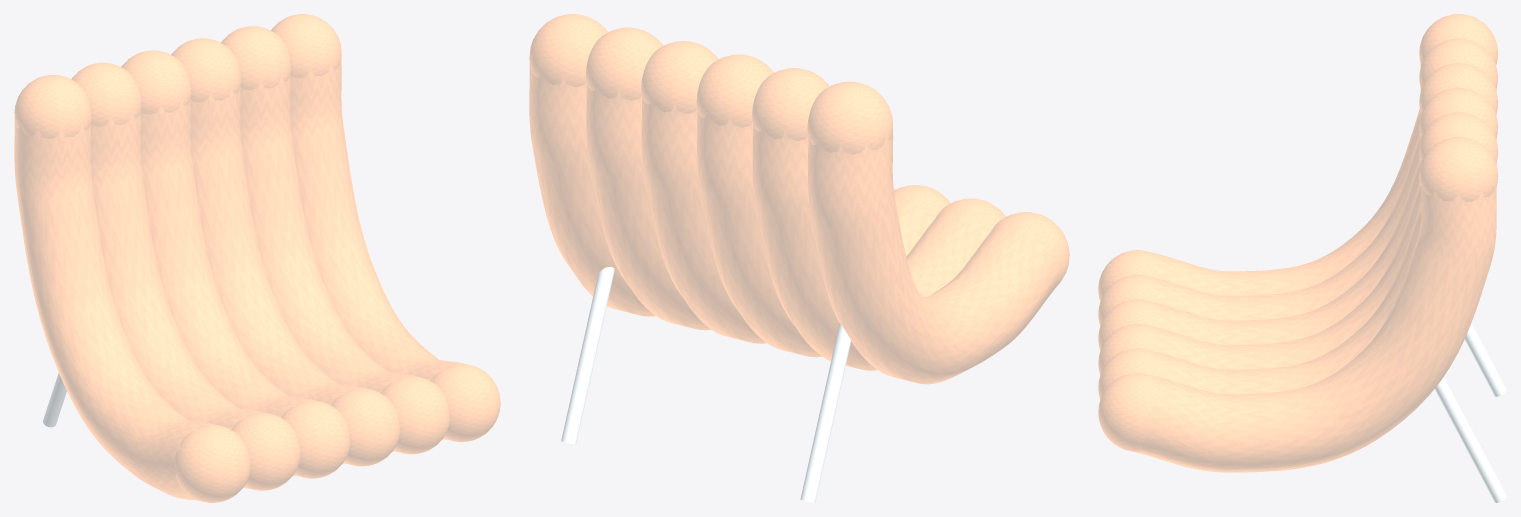
The model's file is ref05_04.glb.
The picture shows the model from 3 angles, left to right: view 1: azimuth 30°, elevation 25°; view 2: azimuth 150°, elevation 25°; view 3: azimuth 270°, elevation 25°; orthographic projection. The views are drawn at different scales.
Visible parts, largest first — view 1: ref05_04; view 2: ref05_04; view 3: ref05_04.
Boxes of the visible parts, x1,y1,x2,y2 form: ref05_04: [14, 14, 500, 502]; ref05_04: [529, 14, 1069, 502]; ref05_04: [1098, 14, 1506, 502].
Size of the model in its own units: 0.795 by 0.8765 by 0.8785.
Materials: 2 (1 with a texture image).
